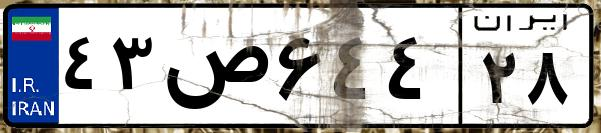2: (475, 38, 525, 113)
3: (110, 28, 158, 98)
4: (385, 28, 445, 110), (330, 28, 385, 110), (57, 26, 110, 100)
6: (270, 28, 330, 110)
8: (525, 38, 570, 115)
ص: (158, 20, 270, 120)
